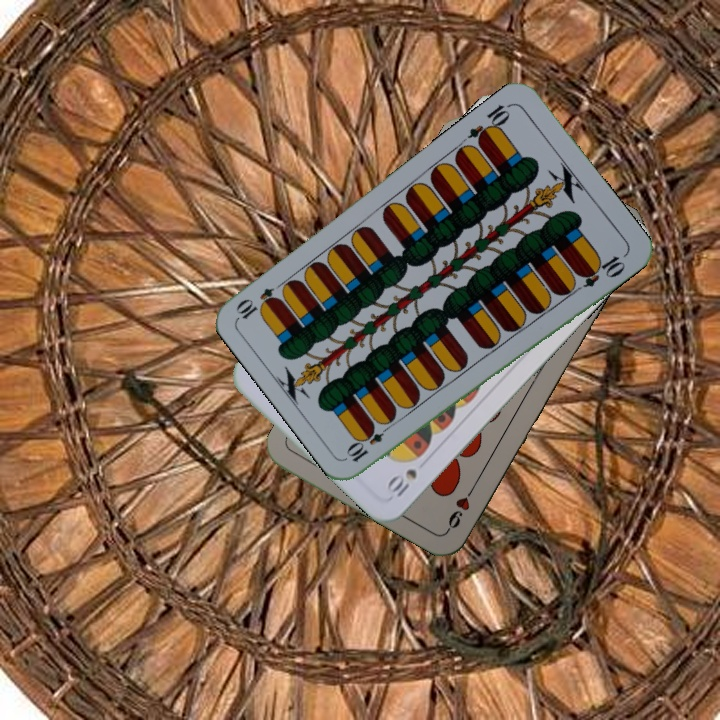E10: (464, 99, 515, 148), (343, 418, 395, 465)
H9: (443, 480, 479, 533)
S10: (385, 464, 420, 502)
